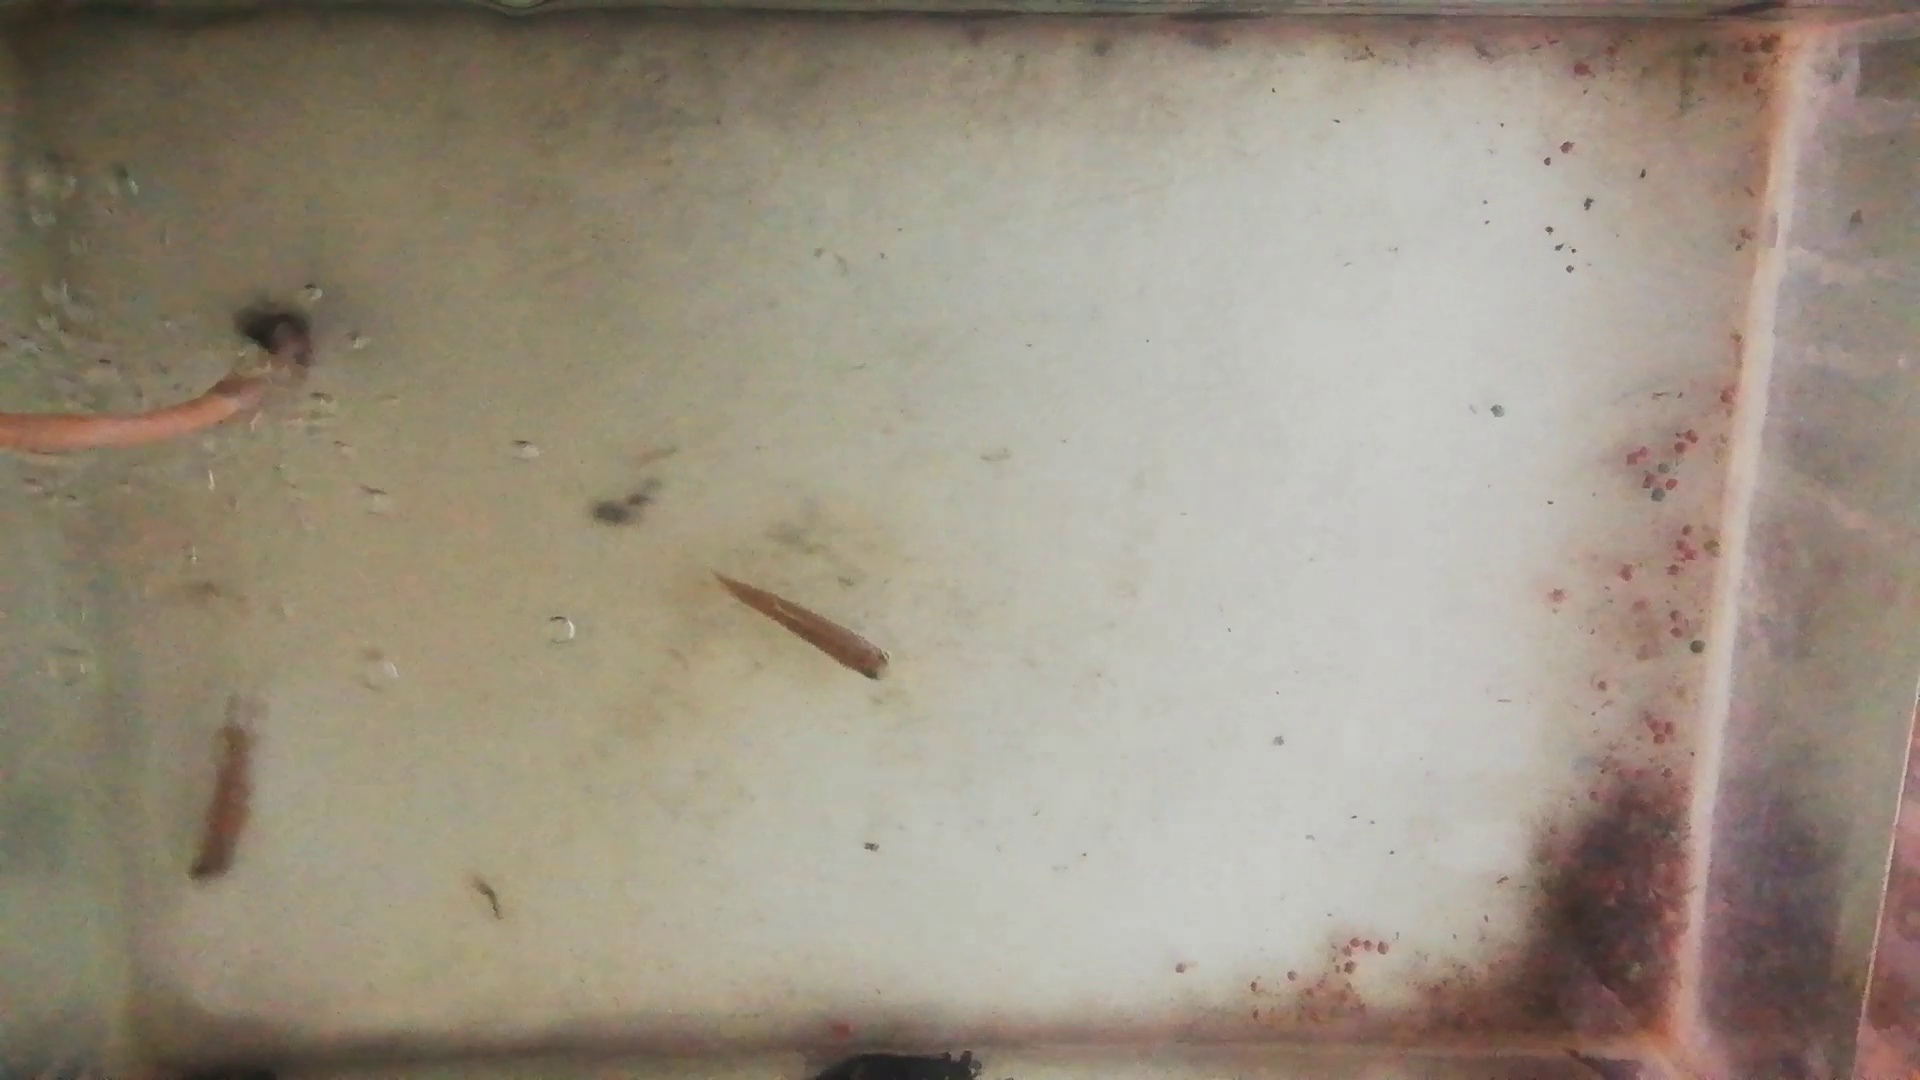fish: (708, 566, 897, 683), (189, 711, 252, 882)
